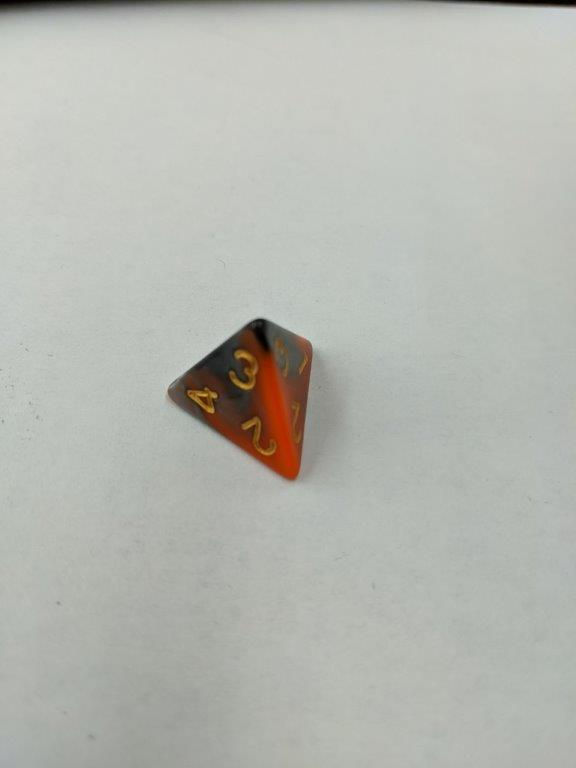d4-3: (163, 317, 320, 485)
